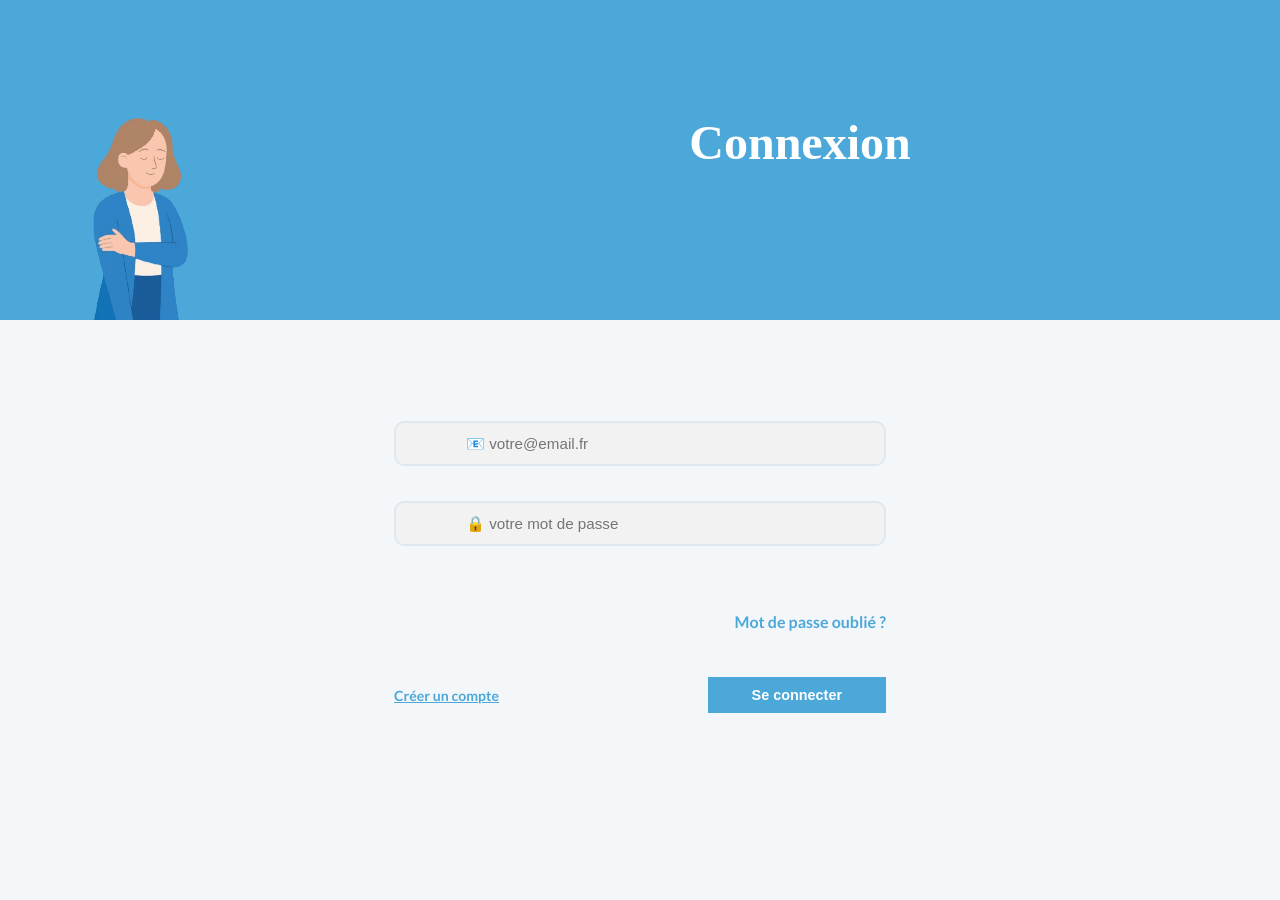
it: Connexion › affiche une erreur en cas de mauvais identifiants
Step 1. Type "test@test.fr" into the field with placeholder "📧 votre@email.fr" → (640, 444), box [394,421,886,466]
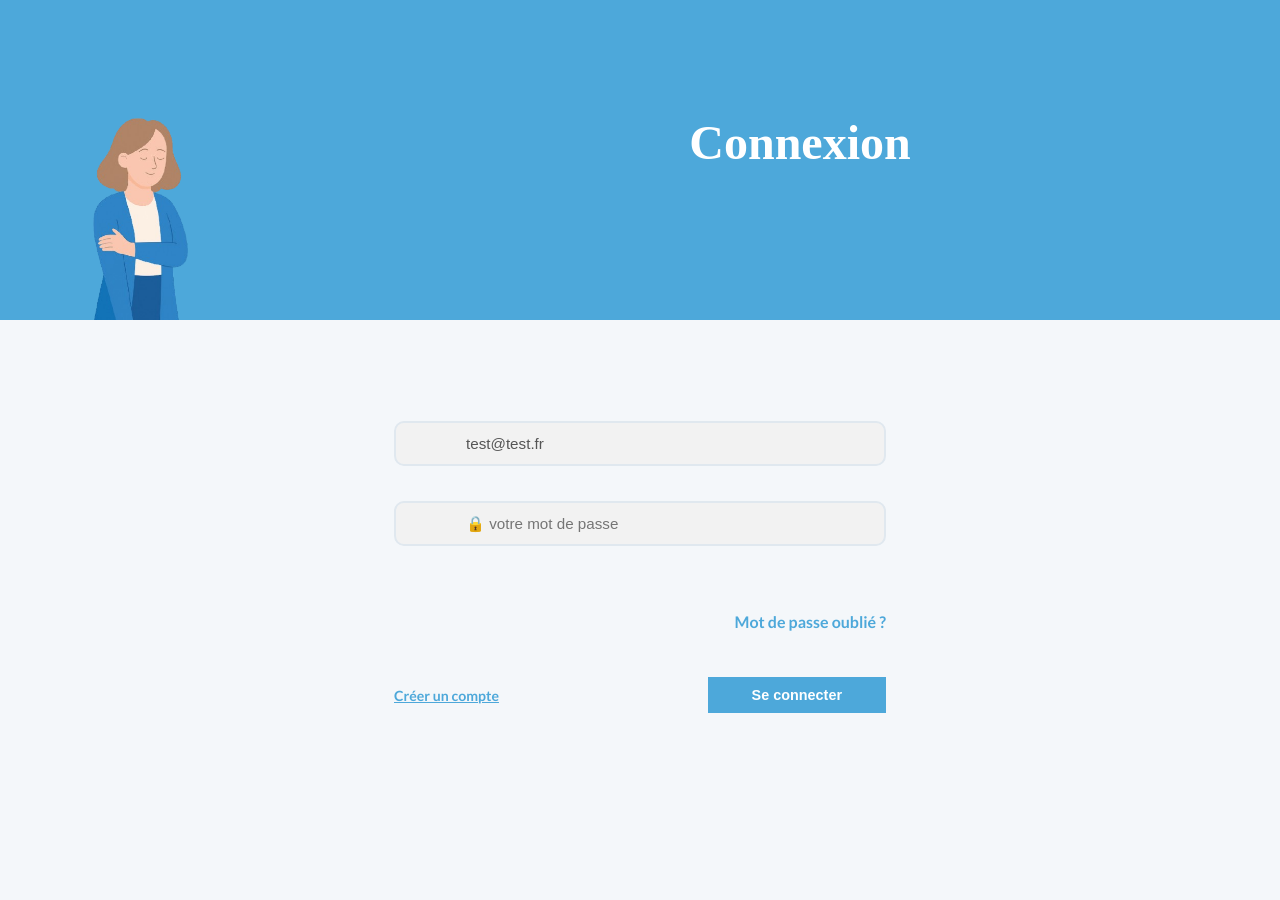
Step 2. Type "mauvais" into the password field with placeholder "🔒 votre mot de passe" → (640, 524), box [394,501,886,546]
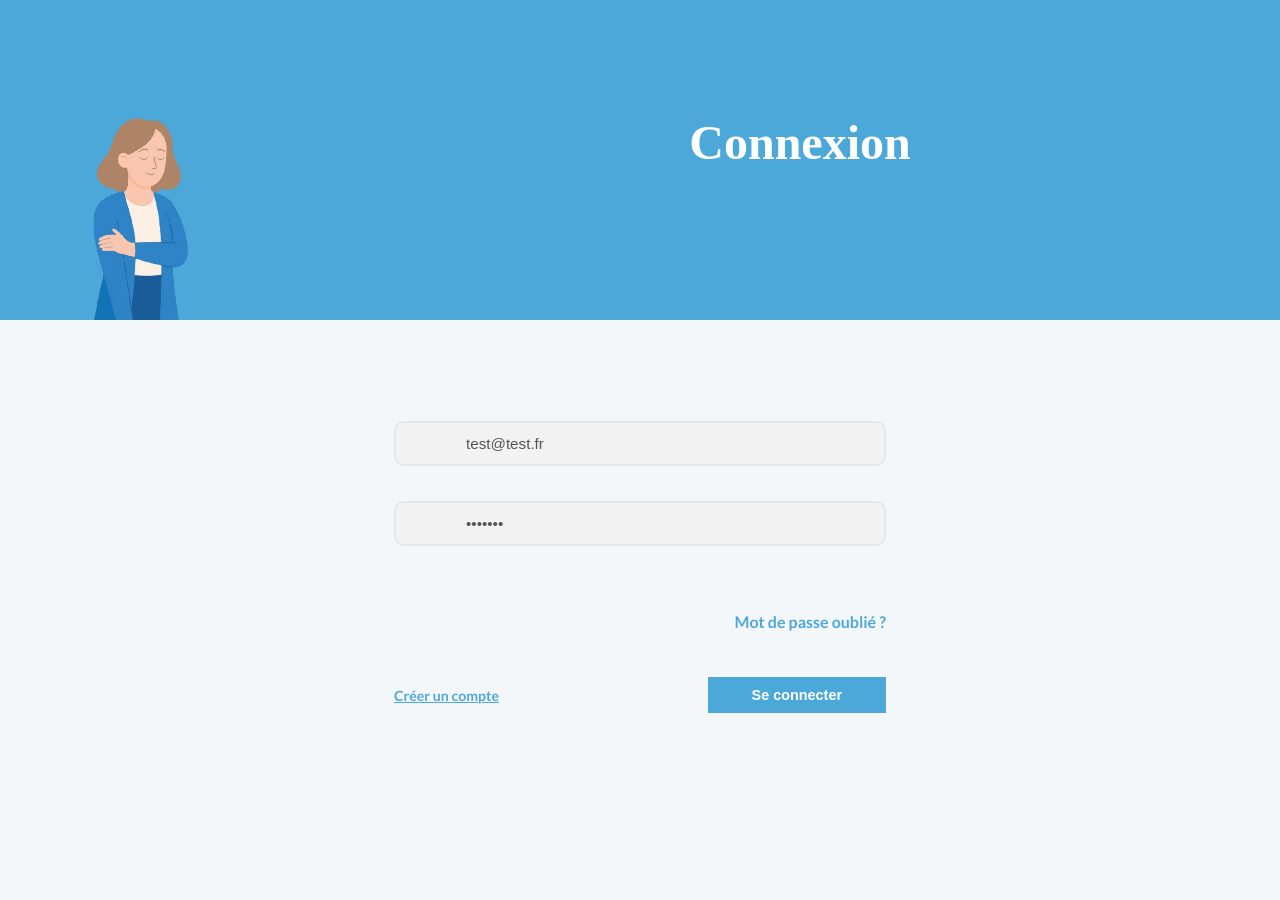
Step 3. Click the button "Se connecter" → (797, 695), box [708,677,886,713]
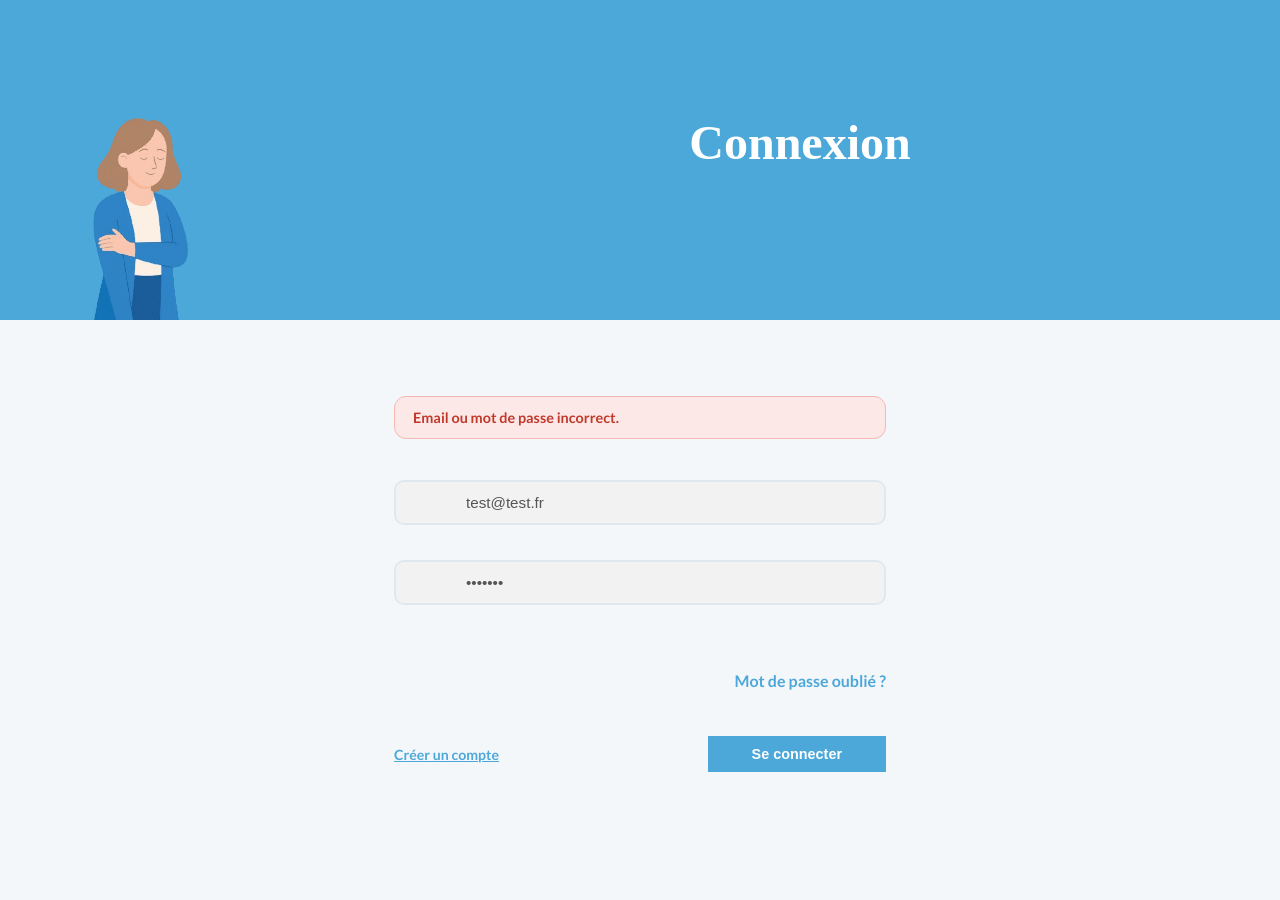
Expected: the text "Email ou mot de passe incorrect." is shown, [413,409,619,426]
